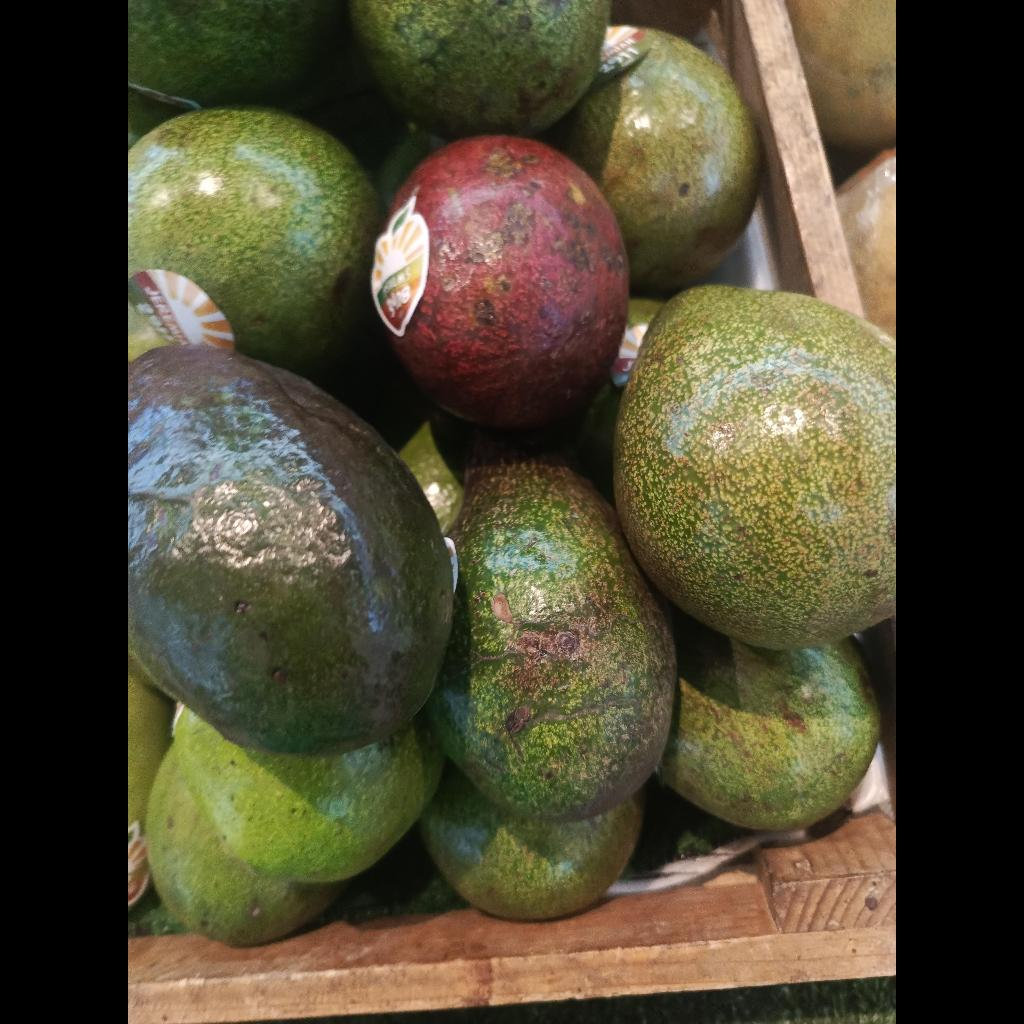anthracnose: (370, 135, 629, 428)
